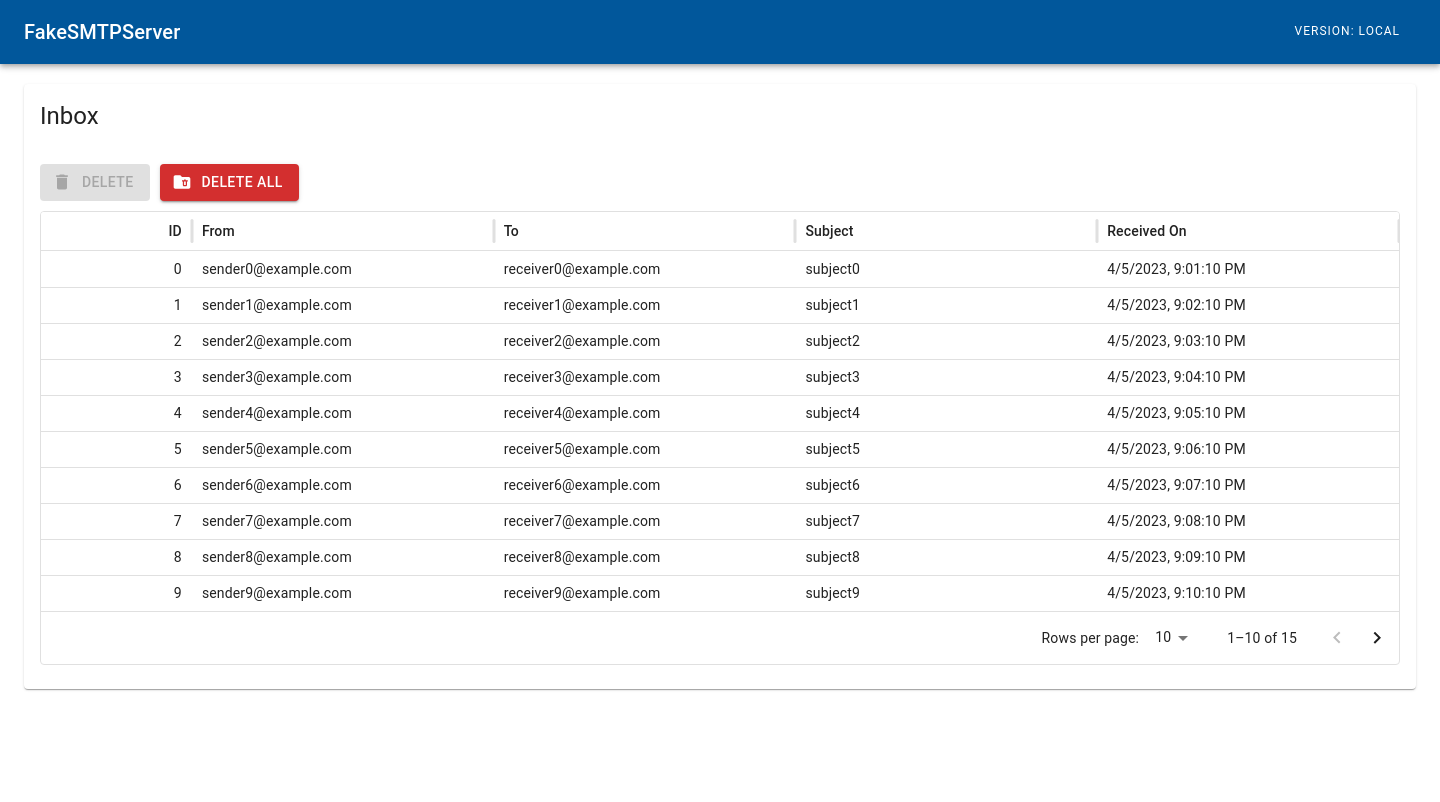
Test: EmailListPage › should delete selected email when delete is confirmed
Click the cell titled "1".
click(116, 304)  # box left=41, top=286, right=192, bottom=322
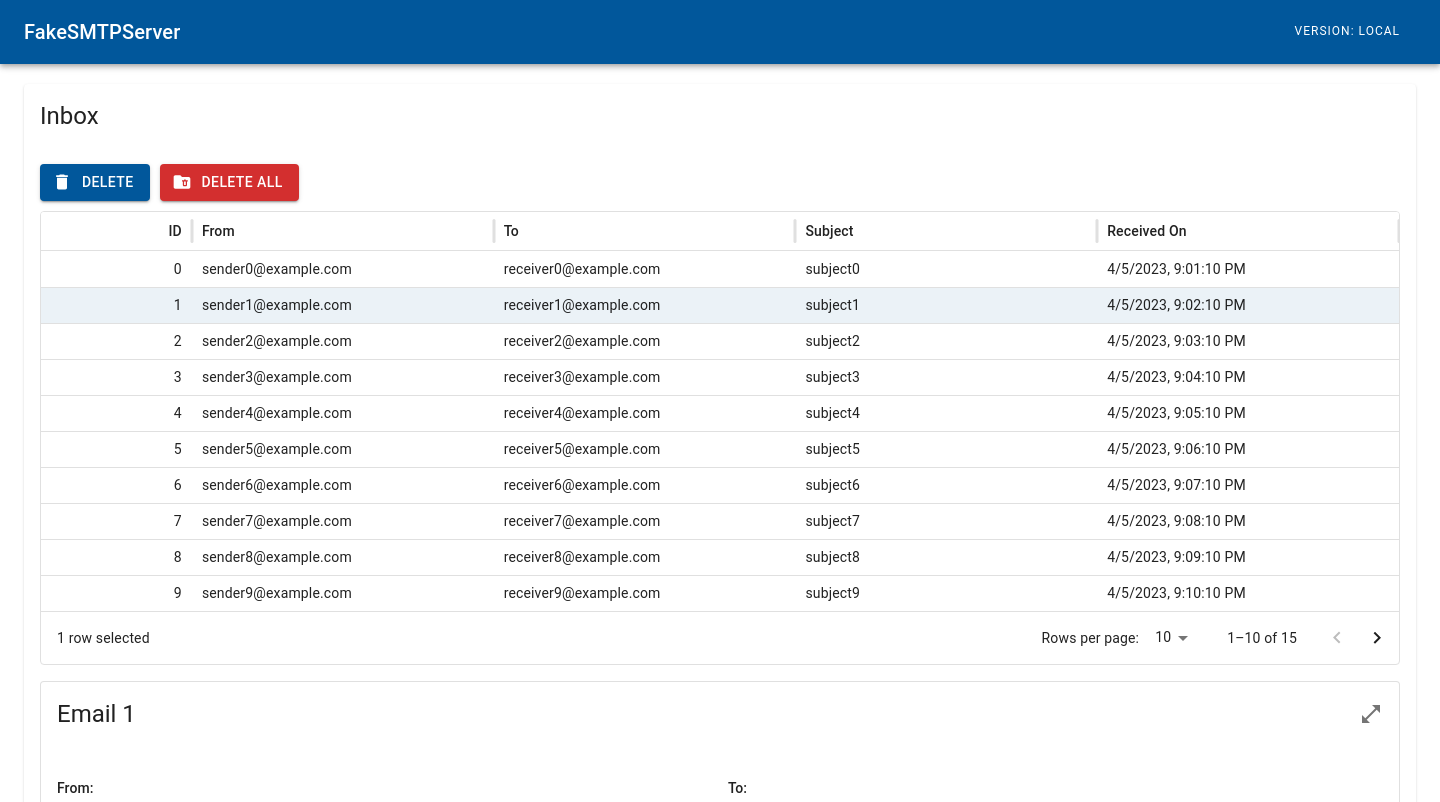
expect the button "Delete" is enabled: met
Click the button "Delete".
click(95, 182)  # box left=40, top=164, right=150, bottom=200
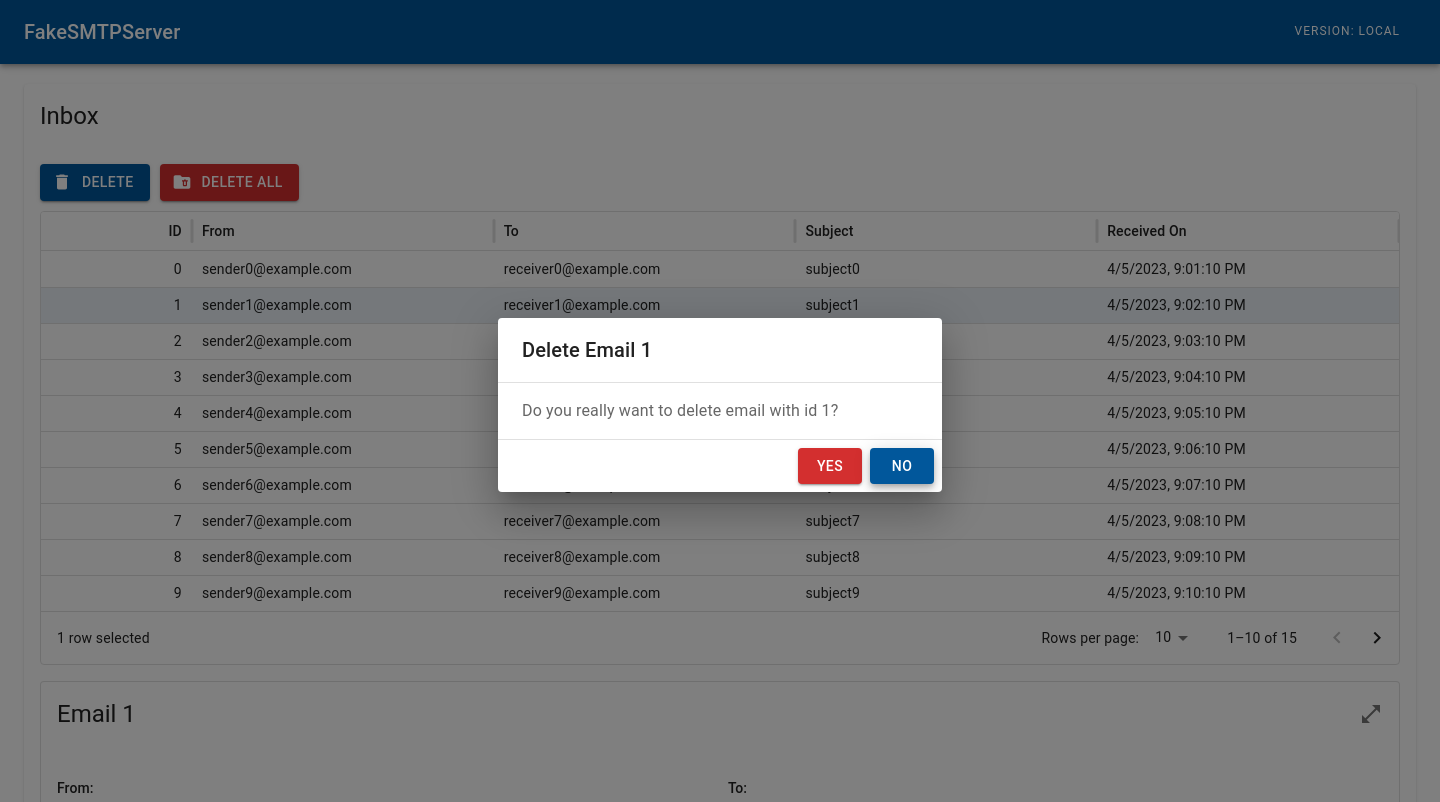
expect the heading "Delete Email 1" is shown: met, box left=522, top=338, right=652, bottom=362
Click the button "Yes".
click(830, 466)  # box left=798, top=448, right=862, bottom=484
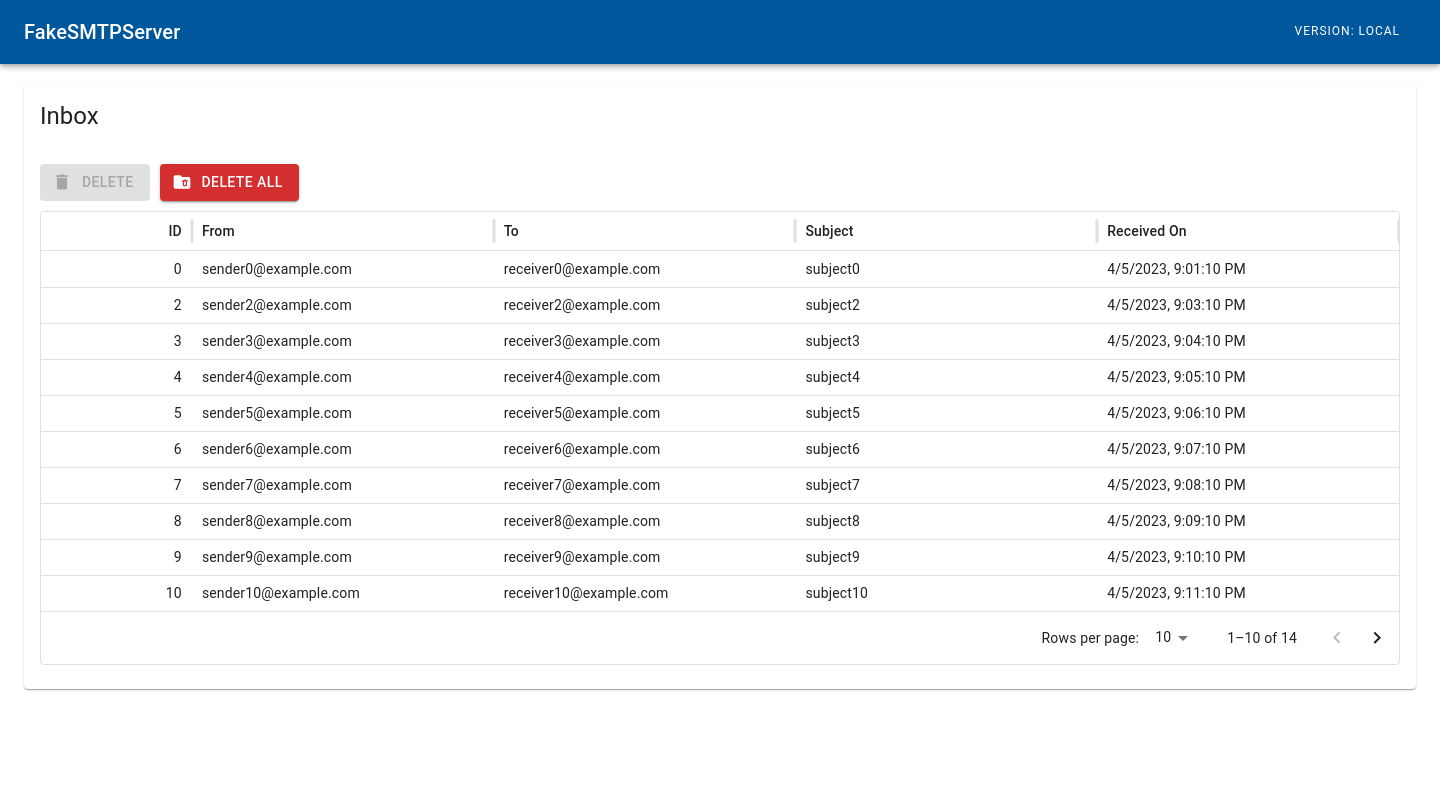
expect the column heading titled "1" is gone: met
expect the text "sender2@example.com" is shown: met, box left=192, top=286, right=494, bottom=322
